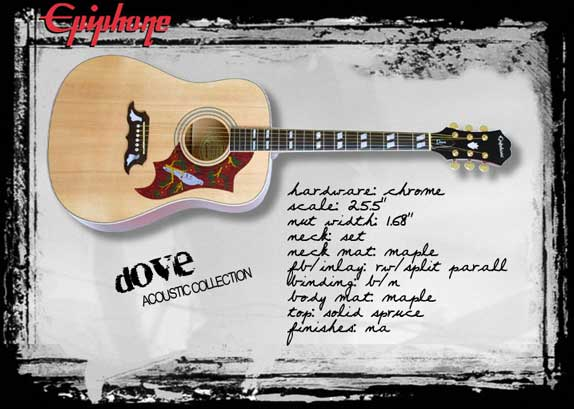guitar: (46, 54, 516, 239)
